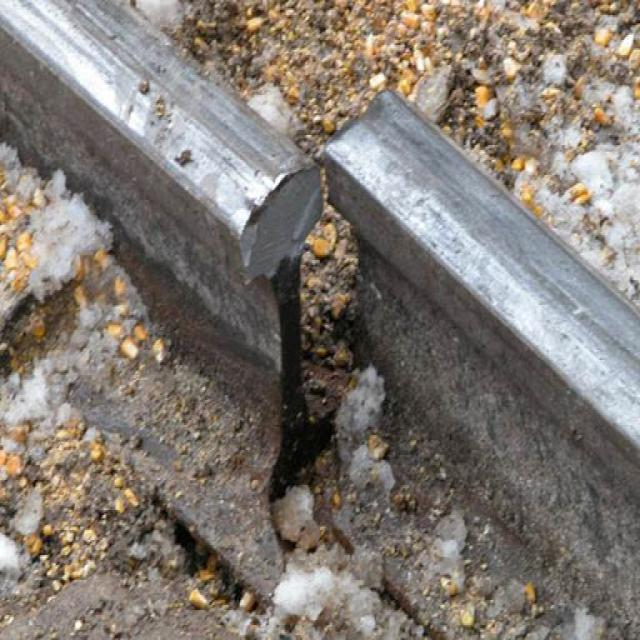fault: (232, 64, 403, 612)
